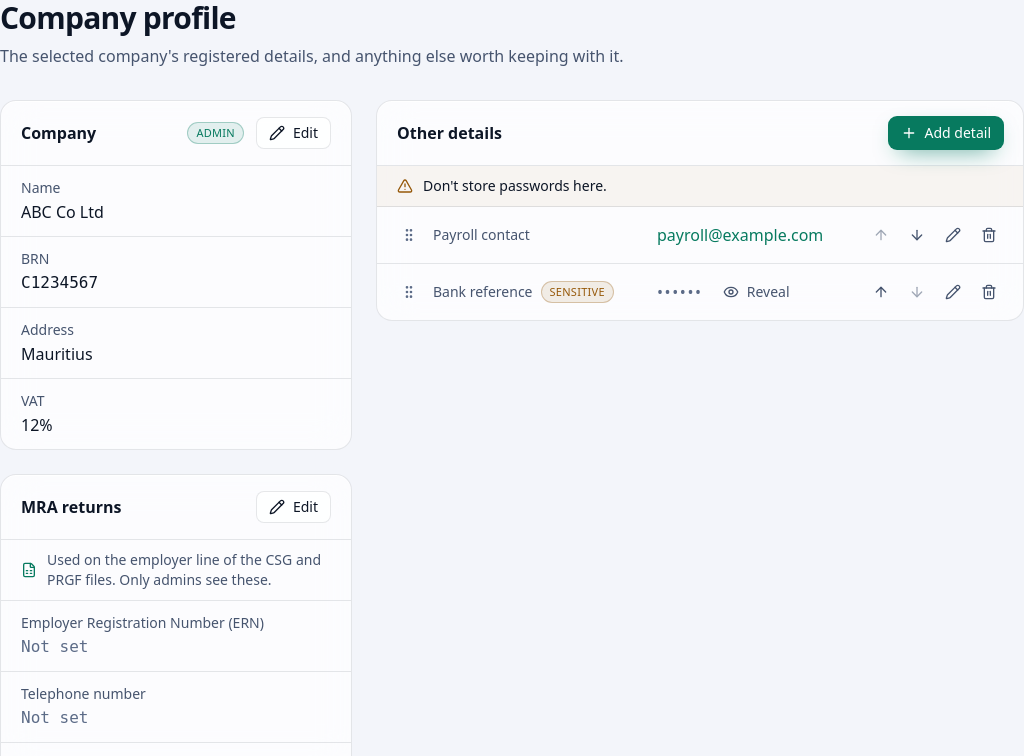
sensitive details › stay hidden when the password is wrong
This screenshot has width=1024, height=756.
Expected: the text "Bank reference" is shown, [433,282,532,302]
Click the button with aria-label "Reveal Bank reference".
click(756, 292)  # box [711,276,802,308]
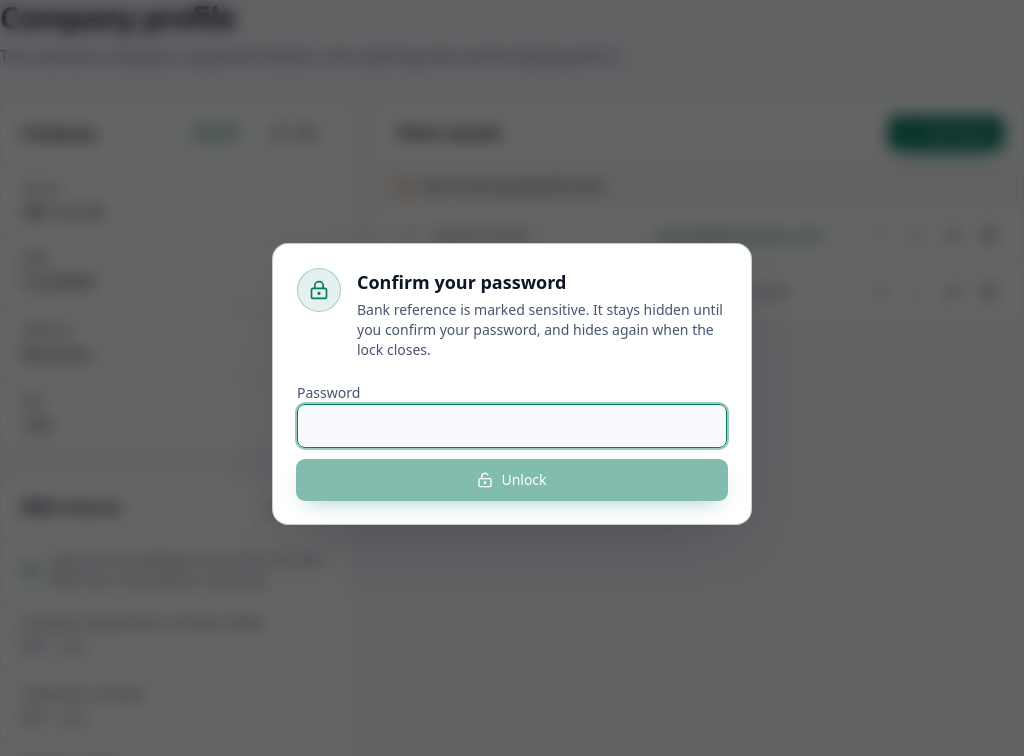
Type "pw" into the password field labelled "Password".
click(512, 426); type("pw")  # box [297,404,727,448]
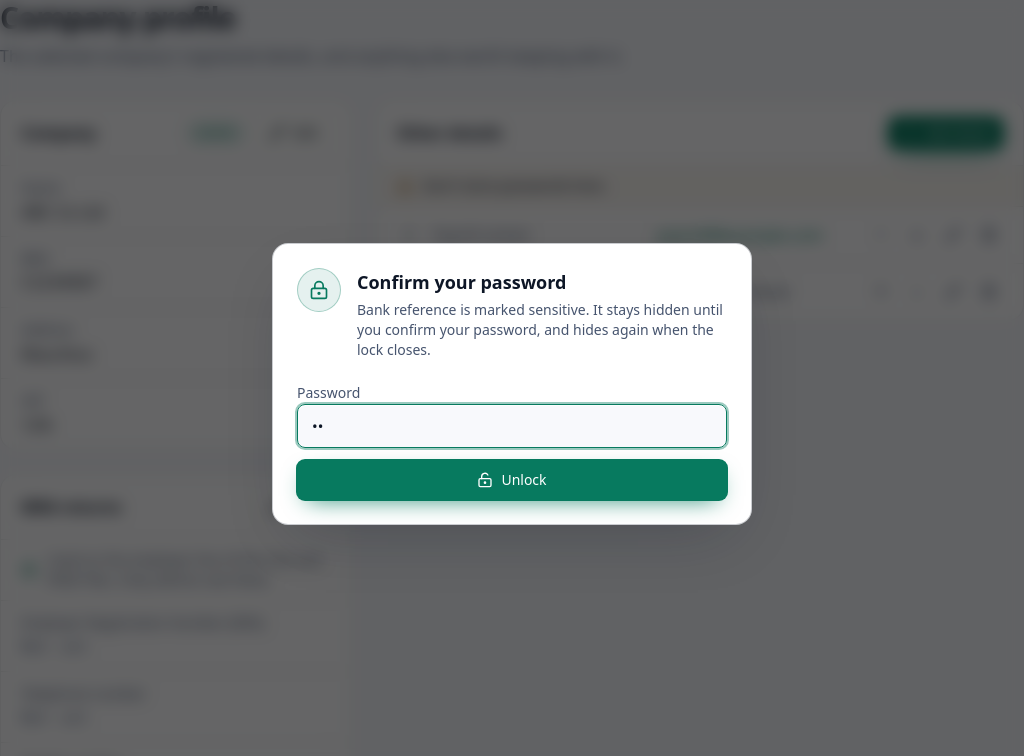
Submit the form labelled "Password", box [297,380,727,500]
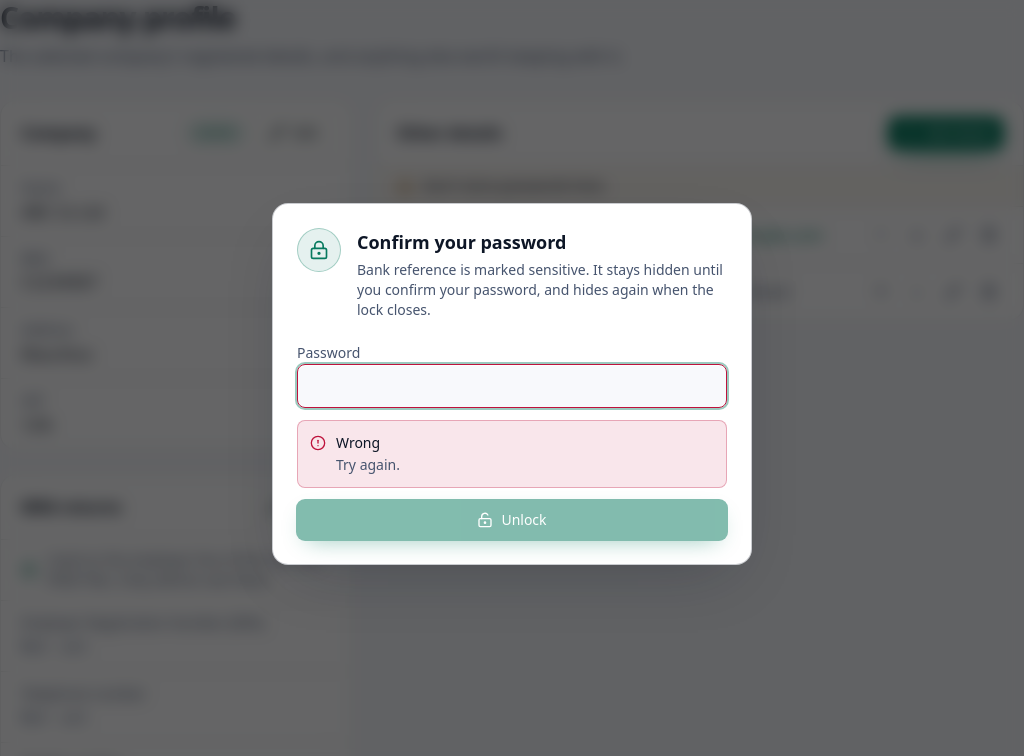
Expected: the message shows "Wrong", [336,433,380,452]
